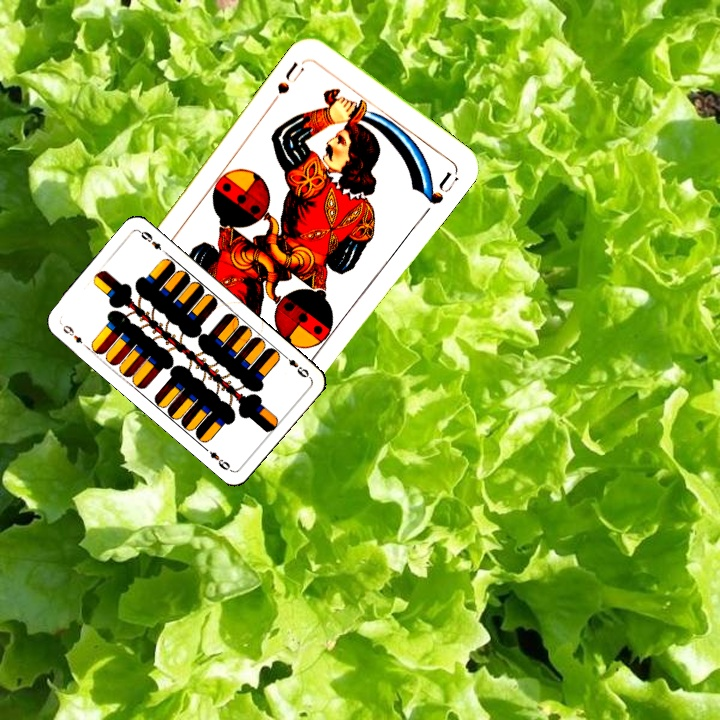E9: (279, 350, 312, 380), (57, 320, 85, 346)
SU: (268, 55, 311, 105)
